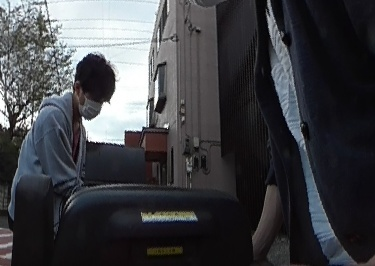person: (7, 53, 116, 215)
